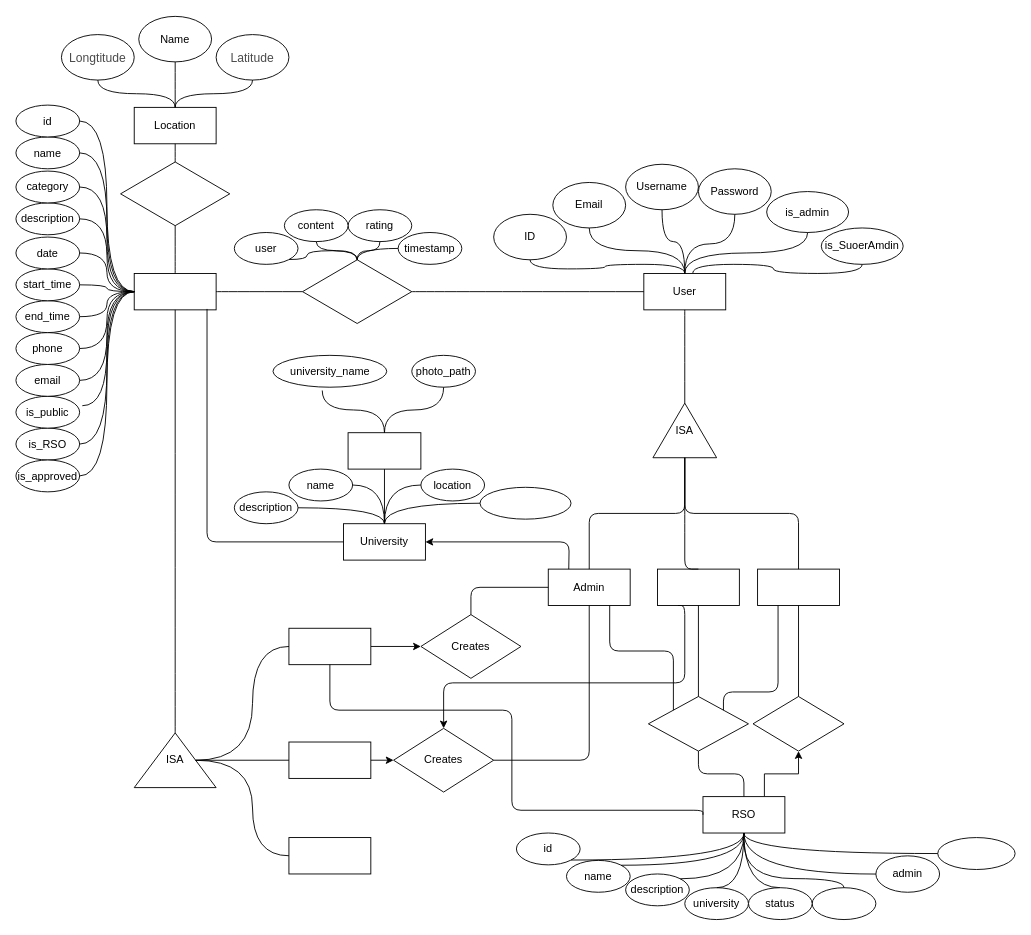
Image size: 1031x935. Some labels were removed from this diagram. Here are the shapes that lost their labels. From the top down, the centre of each, then its label:
At point (175, 193): "Host at".
At point (174, 291): "Event".
At point (357, 291): "Comments".
At point (384, 450): "Pictures".
At point (525, 502): "num_students".
At point (698, 587): "Super Admin".
At point (798, 587): "Student".
At point (329, 646): "RSO Event".
At point (697, 723): "Is in".
At point (798, 723): "Administrates".
At point (329, 759): "Private Event".
At point (329, 855): "Public Event".
At point (976, 853): "total_students".
At point (843, 903): "students".
